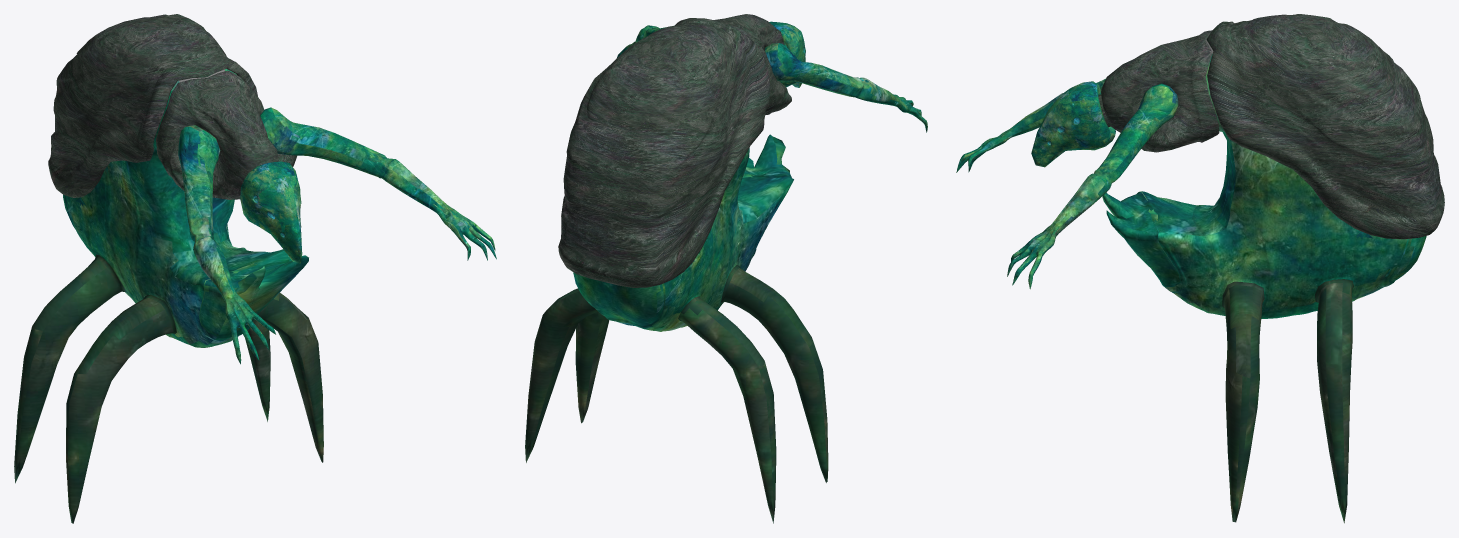
Rendered from Aranar.0021.obj.
The picture shows the model from 3 angles, left to right: view 1: azimuth 30°, elevation 25°; view 2: azimuth 150°, elevation 25°; view 3: azimuth 270°, elevation 25°; orthographic projection. The views are drawn at different scales.
Bounding box in the file's own units: 2.87 × 3.82 × 3.85.
Materials: 5 (4 with a texture image).
